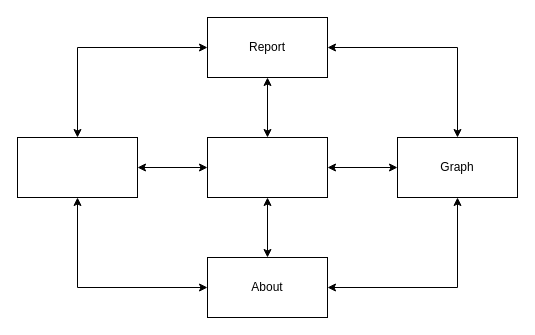
Some shapes in this 535 by 335 pixel diagram are drawn without their labels. The centre of each missing label's shape, as x and y in pixels:
Gauge: the point at 77,167
Home: the point at 267,167
